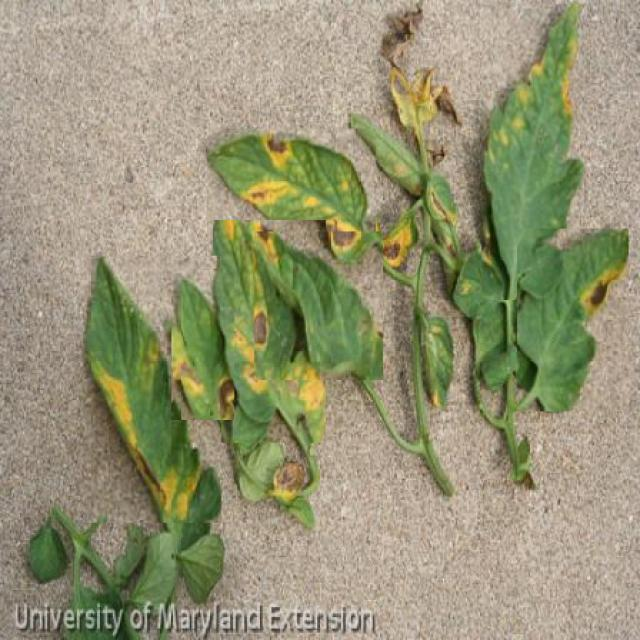Early Blight: (83, 256, 221, 523), (482, 4, 584, 300), (213, 221, 326, 444), (207, 129, 376, 274), (518, 228, 628, 412), (254, 231, 383, 380), (171, 268, 235, 421)
